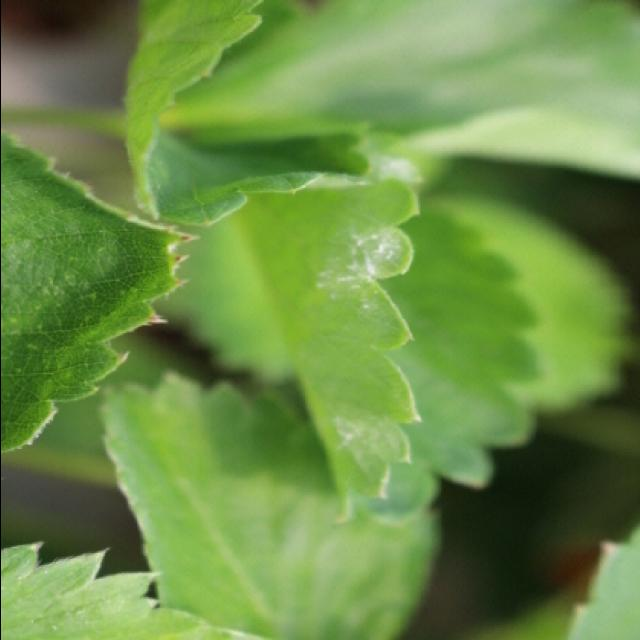Powdery Mildew Leaf: (235, 176, 421, 528)
